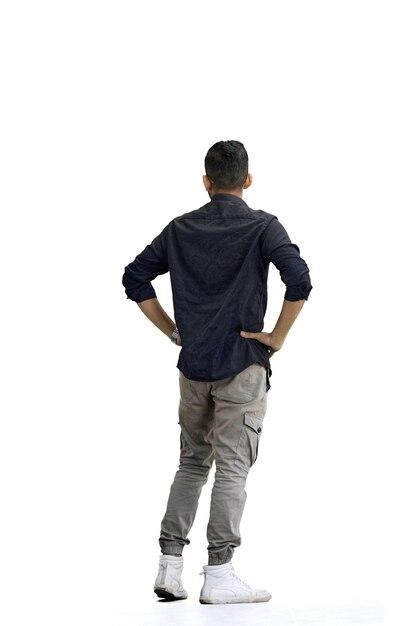Human: (111, 129, 332, 617)
